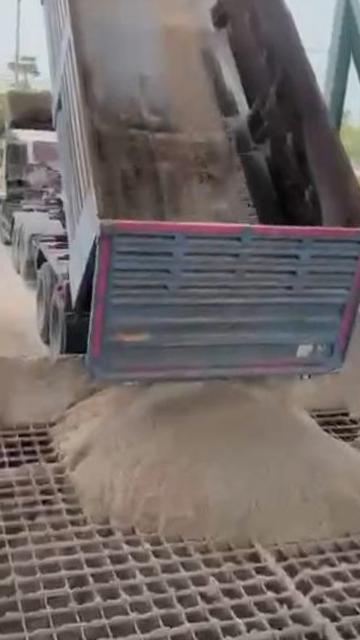sand: (55, 383, 360, 545), (0, 343, 96, 430), (260, 546, 348, 640), (292, 316, 360, 416)
